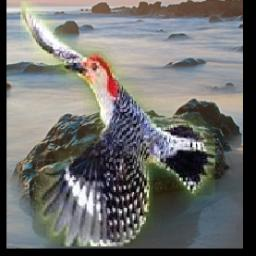Woodpecker: (21, 1, 216, 246)
